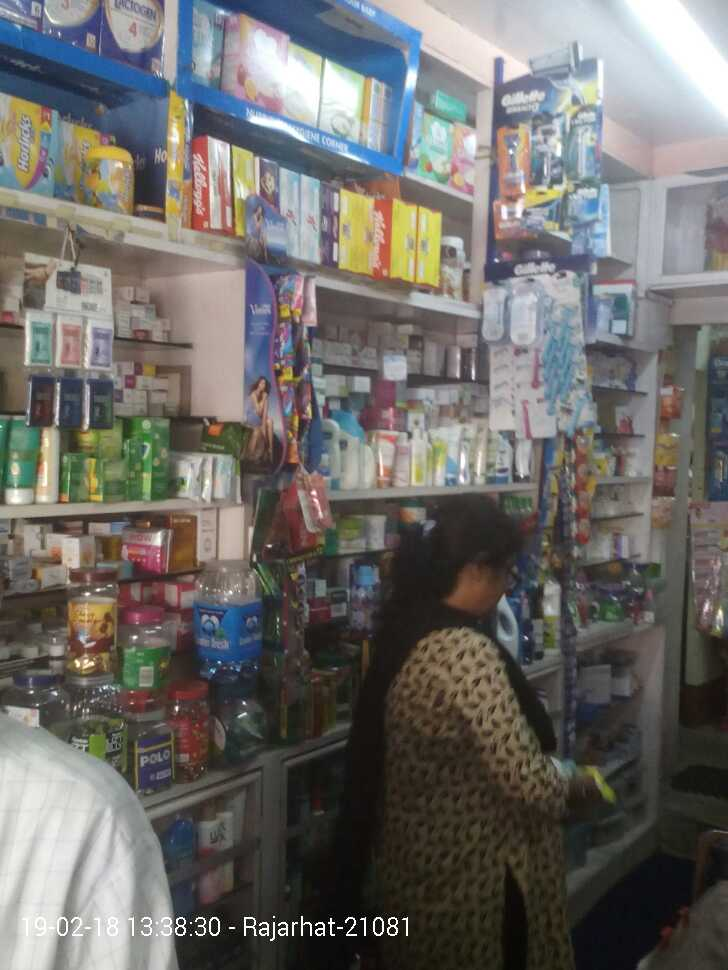gillette: (489, 121, 530, 193), (565, 112, 603, 186), (493, 192, 562, 231), (528, 118, 563, 189), (568, 190, 601, 233), (472, 345, 478, 347)
